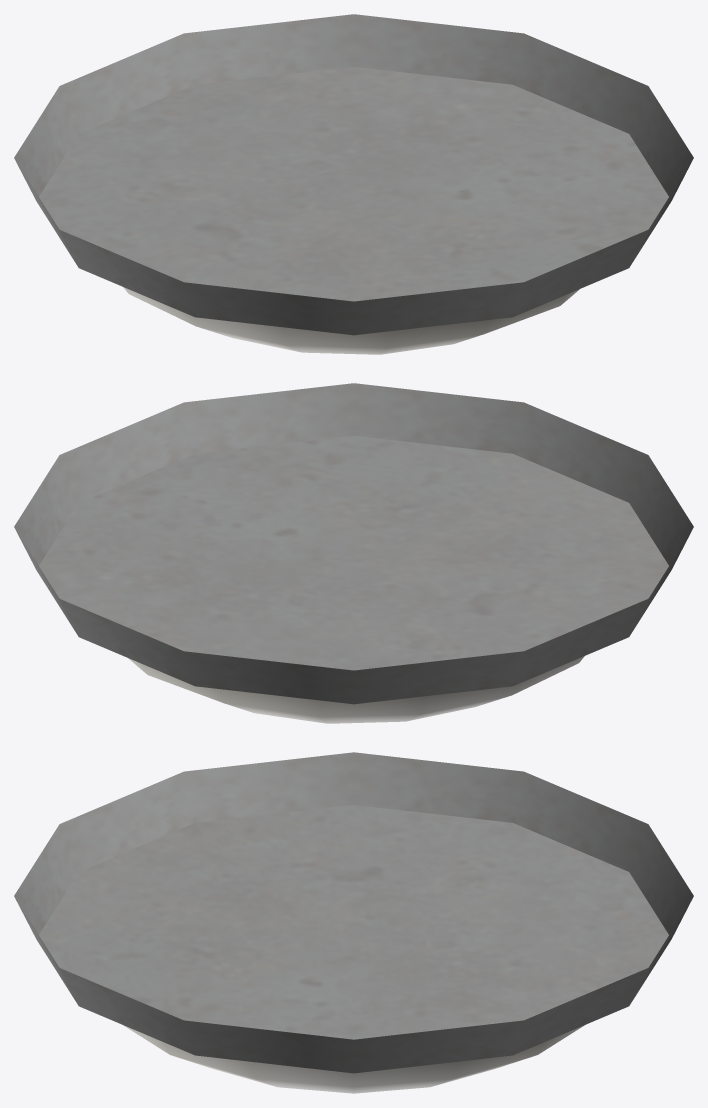
File: light.fbx
The picture shows the model from 3 angles, top to bottom: view 1: azimuth 30°, elevation 25°; view 2: azimuth 150°, elevation 25°; view 3: azimuth 270°, elevation 25°; orthographic projection.
Visible parts, largest first — view 1: light:Cylinder1_Cylinder1_auv; view 2: light:Cylinder1_Cylinder1_auv; view 3: light:Cylinder1_Cylinder1_auv.
Part boxes in pixels (x1,y1,x2,y2): light:Cylinder1_Cylinder1_auv: (14,14,693,354); light:Cylinder1_Cylinder1_auv: (14,383,693,723); light:Cylinder1_Cylinder1_auv: (14,752,693,1093).
Bounding box in the file's own units: 2.14 × 0.4955 × 2.14.
